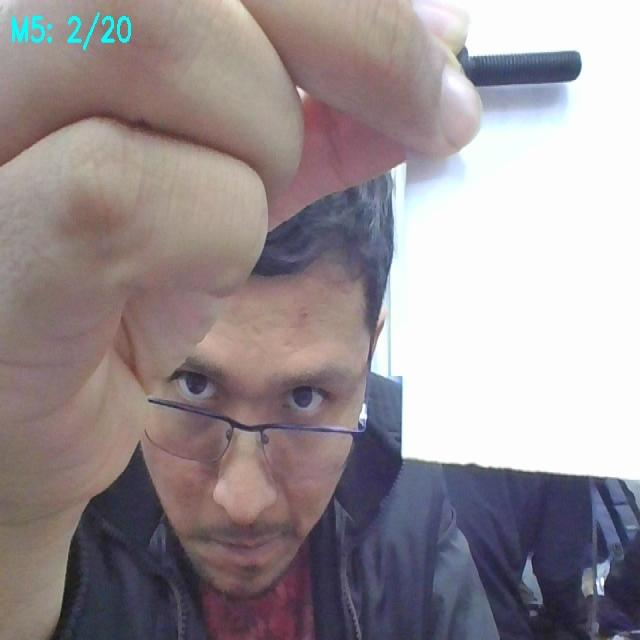vastago: (470, 51, 581, 85)
